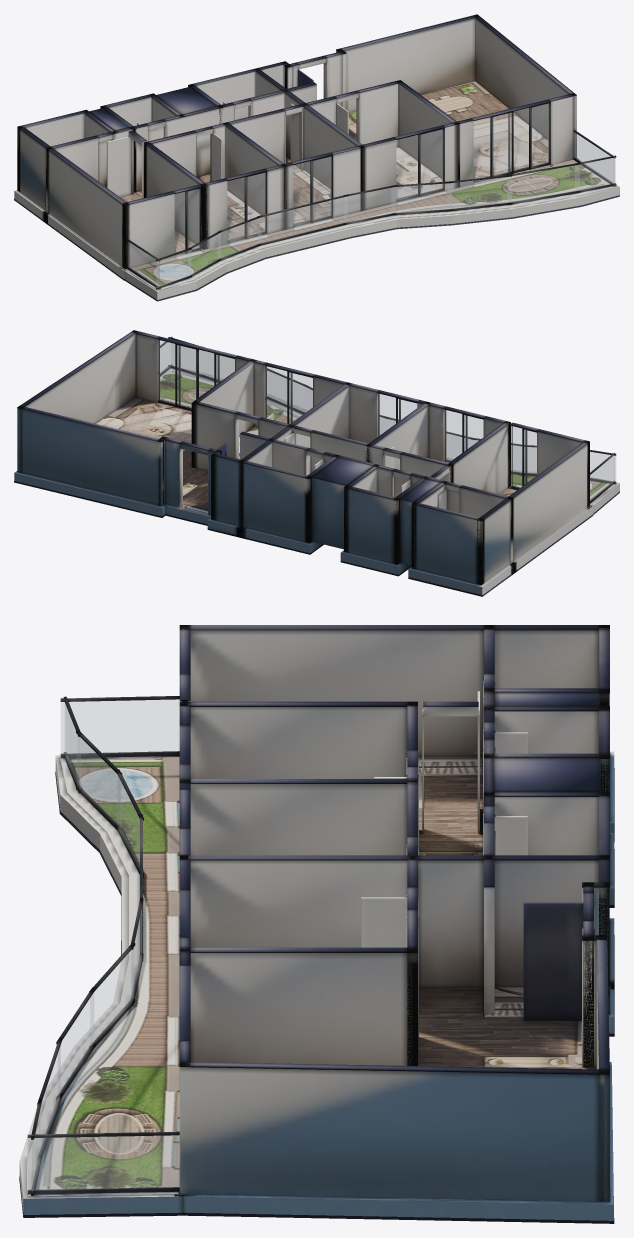
3 renders of one model, top to bottom at view 1: azimuth 30°, elevation 25°; view 2: azimuth 150°, elevation 25°; view 3: azimuth 270°, elevation 25°, orthographic. The views are drawn at different scales.
Parts seen in each view (by area): view 1: plan, glass4_m, glass3_m, railg6_m, glass2_m, glass1_m, railg10_m, railg11_m, railg12_m, railg8_m, glass0_m, railg13_m (+5 smaller); view 2: plan, glass4_m, glass3_m, glass1_m, glass0_m, glass2_m, railg11_m, railg16_m, railg15_m, railg9_m, railg10_m, railg6_m; view 3: plan, railg7_m, railg16_m, railg14_m, railg12_m, railg11_m, railg13_m, railg10_m.
Boxes of the visible parts, bbox=[...] form: plan: bbox=[14, 14, 619, 301]; glass4_m: bbox=[474, 104, 548, 178]; glass3_m: bbox=[396, 129, 442, 199]; railg6_m: bbox=[258, 196, 347, 243]; glass2_m: bbox=[293, 157, 331, 224]; glass1_m: bbox=[227, 173, 265, 240]; railg10_m: bbox=[507, 165, 579, 202]; railg11_m: bbox=[447, 177, 511, 209]; railg12_m: bbox=[392, 183, 451, 212]; railg8_m: bbox=[343, 187, 395, 222]; glass0_m: bbox=[175, 189, 199, 252]; railg13_m: bbox=[218, 217, 261, 258]; plan: bbox=[14, 330, 619, 596]; glass4_m: bbox=[158, 340, 234, 407]; glass3_m: bbox=[265, 366, 312, 423]; glass1_m: bbox=[445, 410, 483, 462]; glass0_m: bbox=[511, 426, 536, 487]; glass2_m: bbox=[378, 394, 416, 435]; railg11_m: bbox=[267, 371, 304, 411]; railg16_m: bbox=[590, 456, 614, 500]; railg15_m: bbox=[590, 452, 615, 481]; railg9_m: bbox=[171, 343, 201, 373]; railg10_m: bbox=[206, 352, 234, 380]; railg6_m: bbox=[389, 420, 474, 460]; plan: bbox=[19, 625, 614, 1223]; railg7_m: bbox=[28, 1135, 179, 1190]; railg16_m: bbox=[61, 699, 179, 754]; railg14_m: bbox=[77, 735, 120, 827]; railg12_m: bbox=[90, 948, 133, 1045]; railg11_m: bbox=[58, 993, 93, 1095]; railg13_m: bbox=[117, 775, 139, 867]; railg10_m: bbox=[39, 1046, 60, 1150].
Size of the model in its own units: 17.24 by 2.62 by 9.57.
2 materials, 1 textured.
